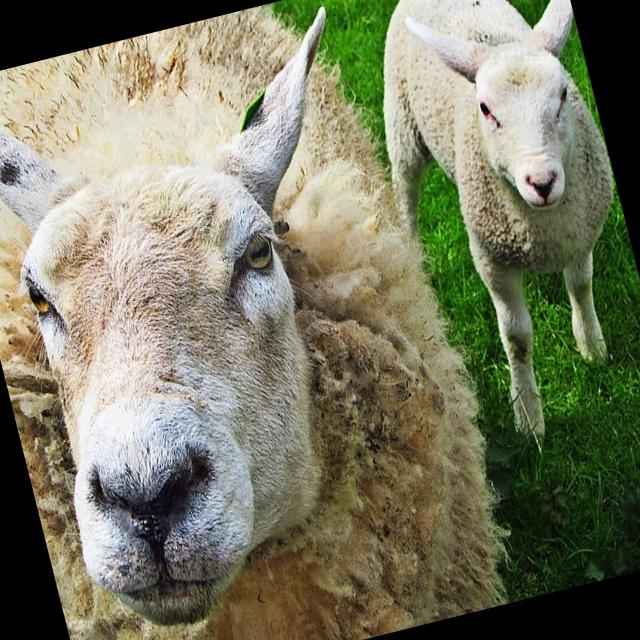animal: (0, 0, 525, 640), (341, 0, 640, 460)
